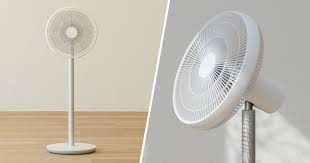standing_fan: (170, 8, 290, 163), (42, 5, 99, 154)
